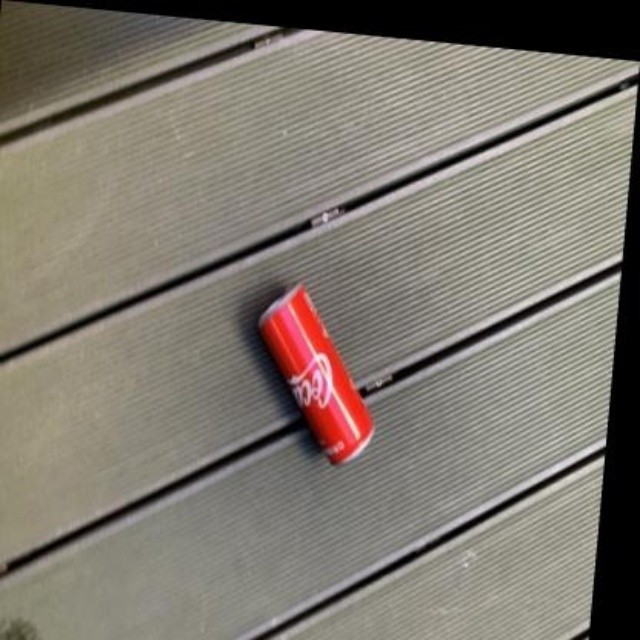trash: (258, 283, 372, 463)
